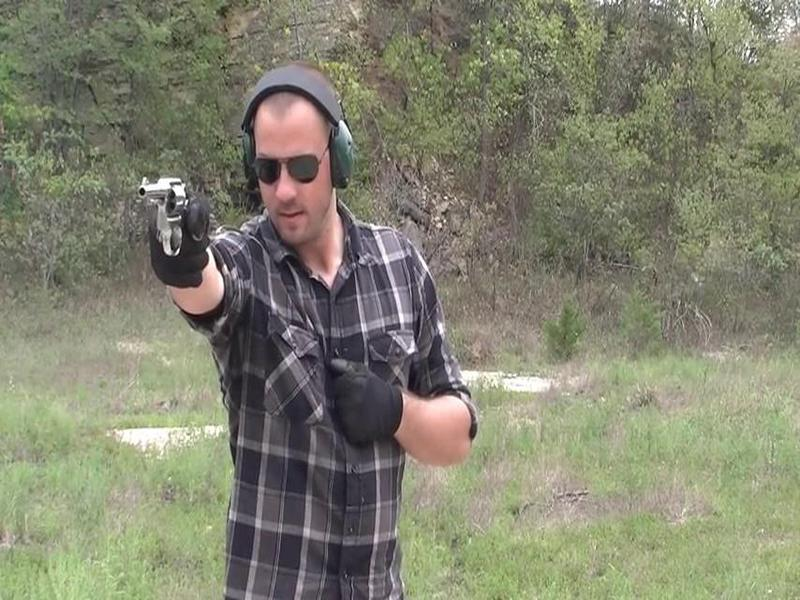Revolver: (128, 174, 218, 286)
